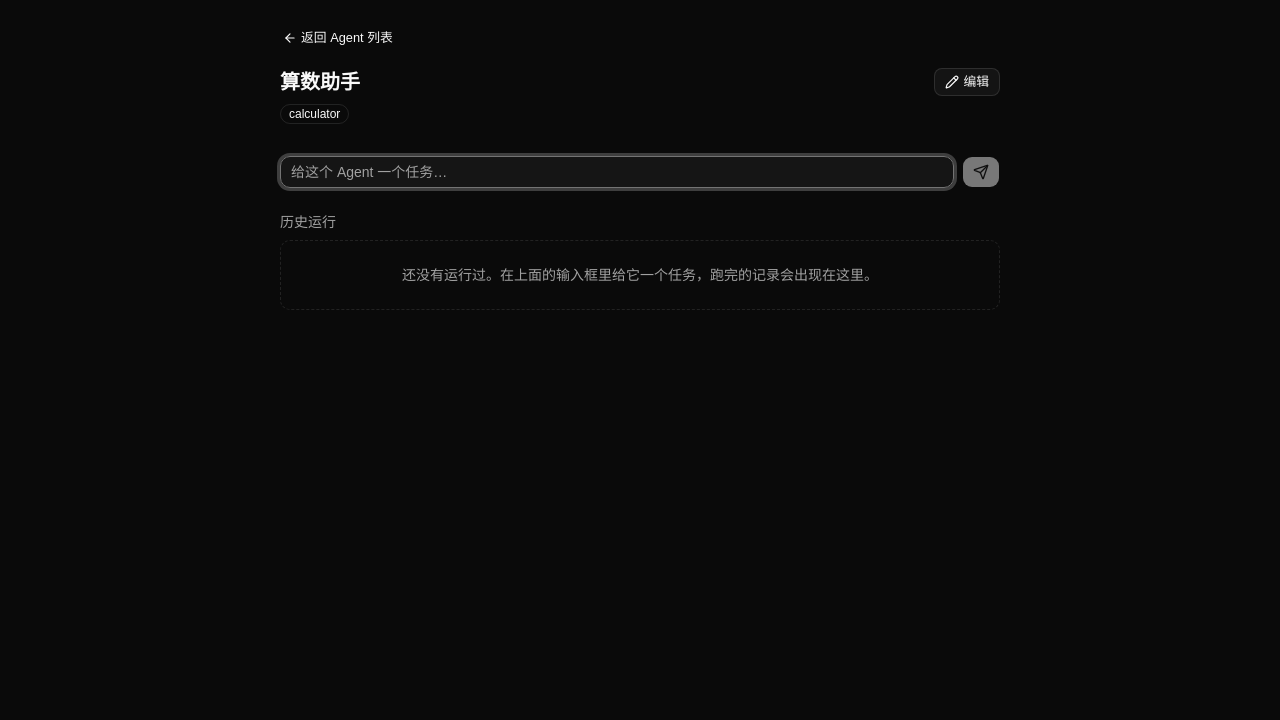
it: 编辑 Agent 的入口（issue #81） › 详情页有"编辑"，点开是这条 Agent 的当前配置
This screenshot has width=1280, height=720.
expect the heading "算数助手" is shown: met, box [280,68,360,96]
Click the button "编辑" at x=967, y=82, box [934,68,1000,96]
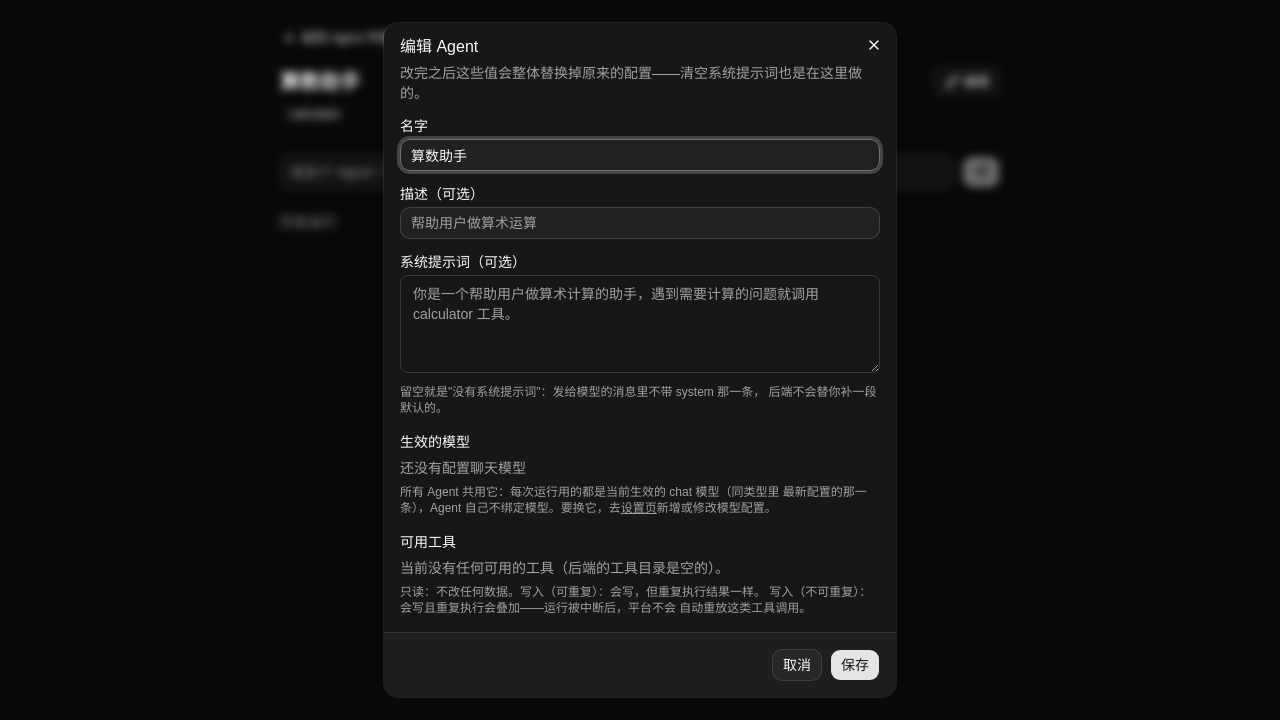
expect the field labelled "名字" holds "算数助手": met, box [400,139,880,171]
expect the text "编辑 Agent" is shown: met, box [400,38,478,55]
